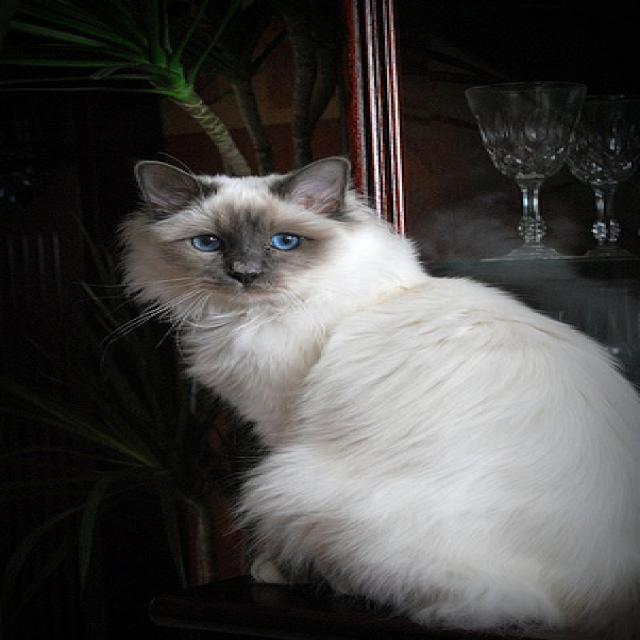Birman: (115, 152, 640, 639)
